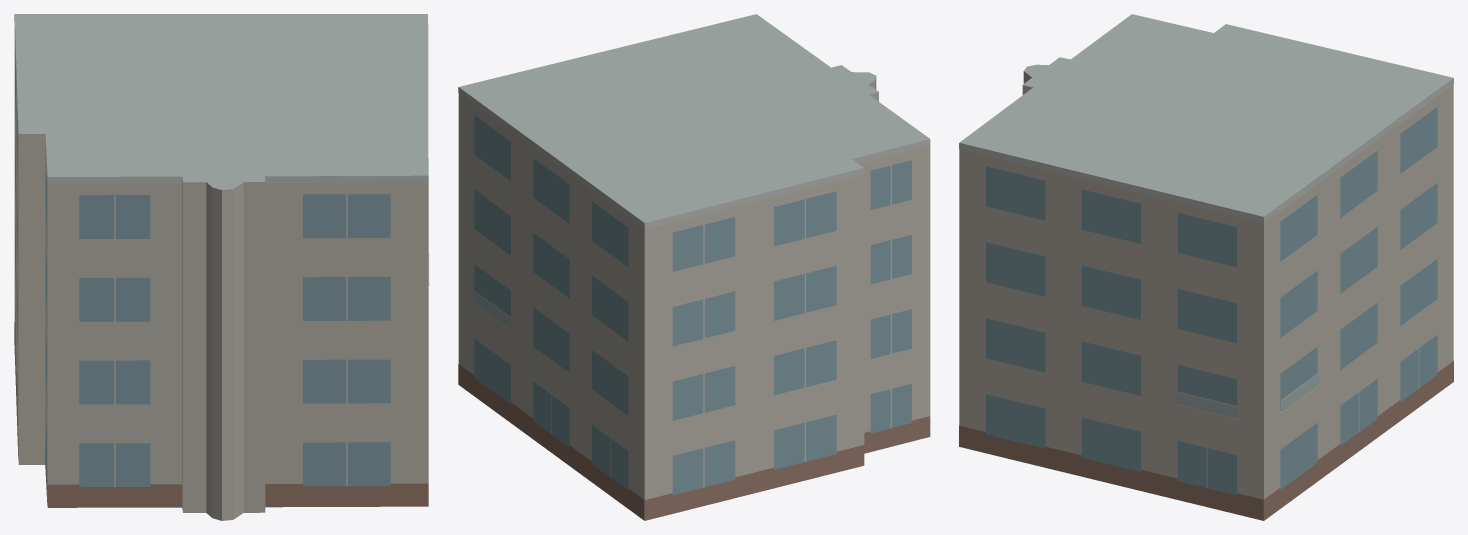
File: survey-upis-32722121.glb
The picture shows the model from 3 angles, left to right: view 1: azimuth 30°, elevation 25°; view 2: azimuth 150°, elevation 25°; view 3: azimuth 270°, elevation 25°; orthographic projection. The views are drawn at different scales.
Parts seen in each view (by area): view 1: survey-upis-32722121.tmp; view 2: survey-upis-32722121.tmp; view 3: survey-upis-32722121.tmp.
Part boxes in pixels (box(x1,y1,x2,y2)): survey-upis-32722121.tmp: box(14, 14, 429, 520); survey-upis-32722121.tmp: box(458, 14, 930, 520); survey-upis-32722121.tmp: box(959, 14, 1453, 520).
Size of the model in its own units: 16.75 by 11.7 by 17.26.
